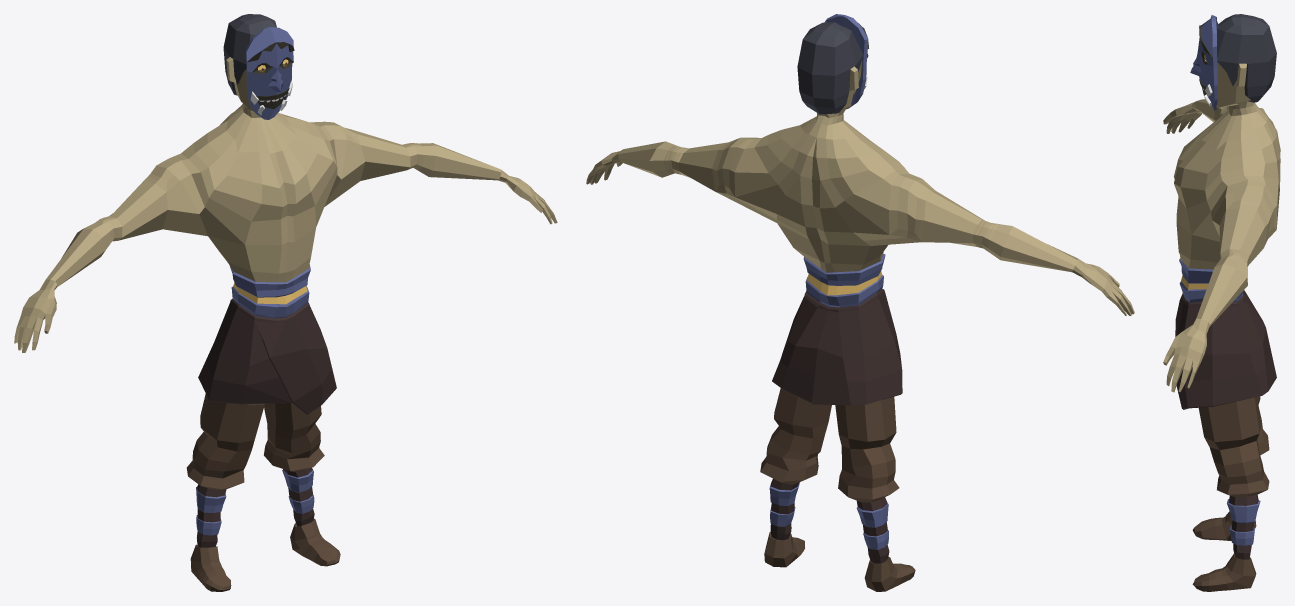
File: Enemy_M_Modeln_no_rig_nf.fbx
3 renders of one model, left to right at view 1: azimuth 30°, elevation 25°; view 2: azimuth 150°, elevation 25°; view 3: azimuth 270°, elevation 25°, orthographic.
Parts seen in each view (by area): view 1: Plane.004; view 2: Plane.004; view 3: Plane.004.
Boxes of the visible parts, <box> form: Plane.004: <box>14,14,557,591</box>; Plane.004: <box>586,14,1134,591</box>; Plane.004: <box>1163,14,1280,591</box>.
Size of the model in its own units: 187 by 182 by 35.48.
1 material, 1 textured.
